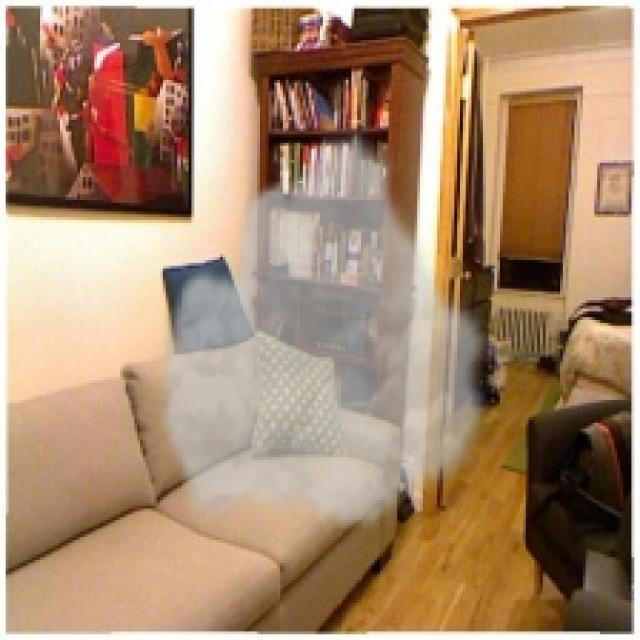smoke: (154, 126, 497, 534)
